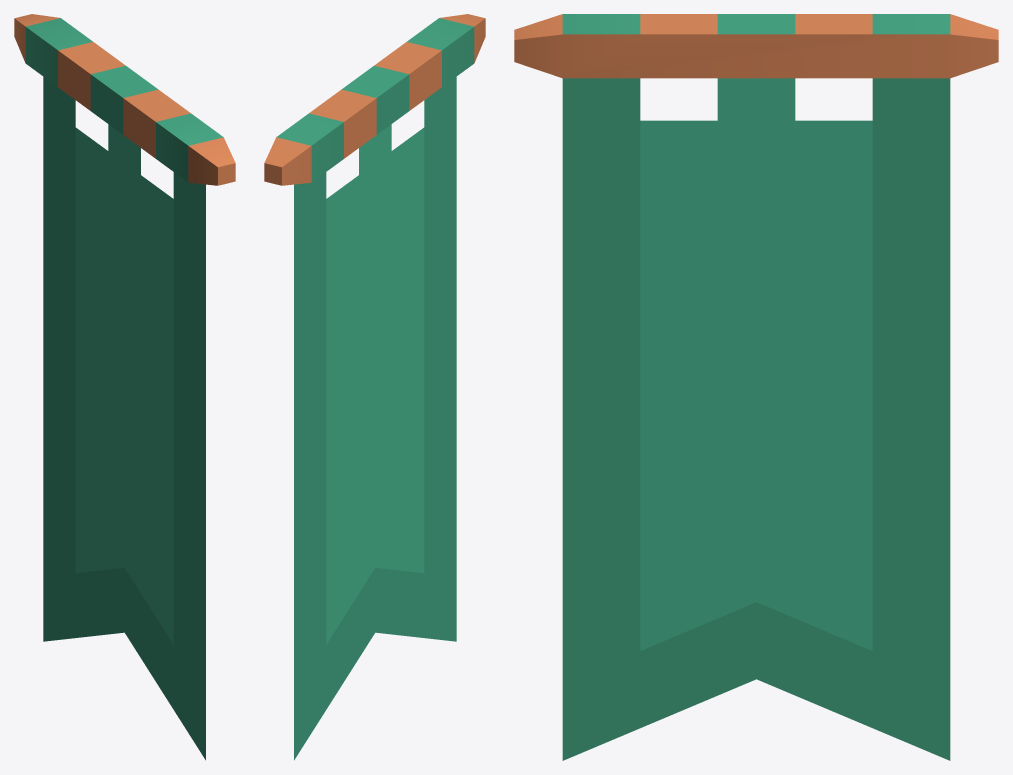
The model's file is bannerGreen.obj.
3 views of the same model, side by side, from view 1: azimuth 30°, elevation 25°; view 2: azimuth 150°, elevation 25°; view 3: azimuth 270°, elevation 25° (orthographic). The views are drawn at different scales.
Parts seen in each view (by area): view 1: bannerGreen; view 2: bannerGreen; view 3: bannerGreen.
Boxes of the visible parts, x1,y1,x2,y2 form: bannerGreen: [14, 14, 235, 760]; bannerGreen: [264, 14, 485, 760]; bannerGreen: [514, 14, 998, 760].
Bounding box in the file's own units: 0.05 × 0.839 × 0.5.
